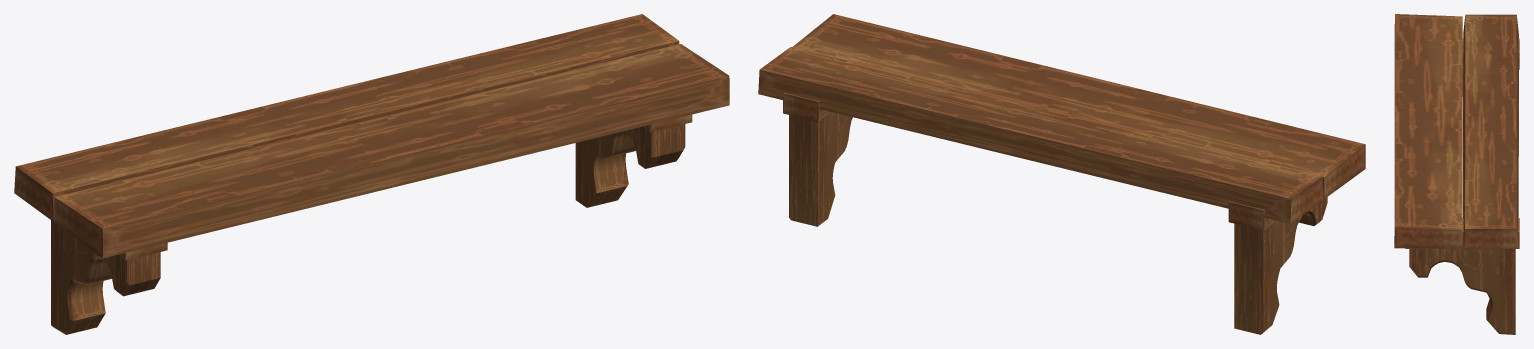
The model's file is Shelf_Simple.glb.
3 renders of one model, left to right at view 1: azimuth 30°, elevation 25°; view 2: azimuth 150°, elevation 25°; view 3: azimuth 270°, elevation 25°, orthographic. The views are drawn at different scales.
Visible parts, largest first — view 1: Shelf_Simple; view 2: Shelf_Simple; view 3: Shelf_Simple.
Boxes of the visible parts, x1,y1,x2,y2 form: Shelf_Simple: [14, 14, 729, 334]; Shelf_Simple: [758, 14, 1365, 334]; Shelf_Simple: [1394, 14, 1519, 334].
Size of the model in its own units: 1.18 by 0.3087 by 0.2922.
1 material, 1 textured.
